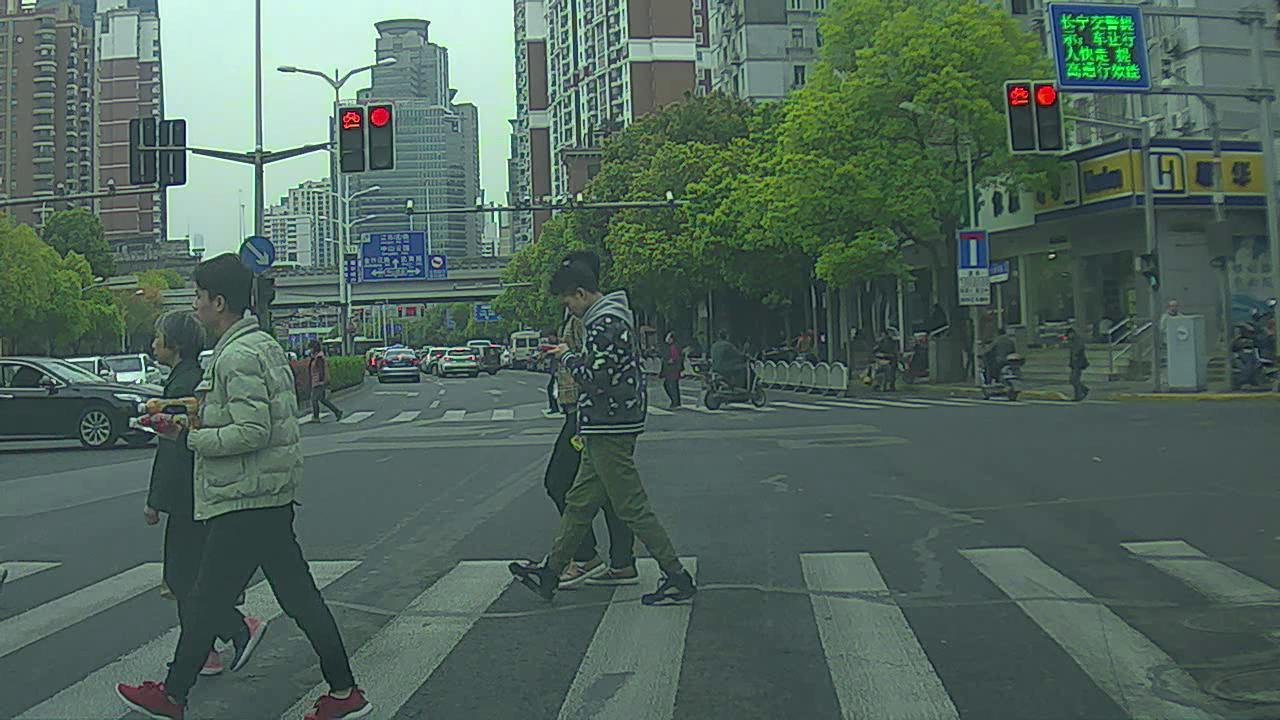traffic_light: (1007, 82, 1041, 155), (368, 103, 401, 171), (338, 103, 367, 176), (1039, 83, 1071, 149)
